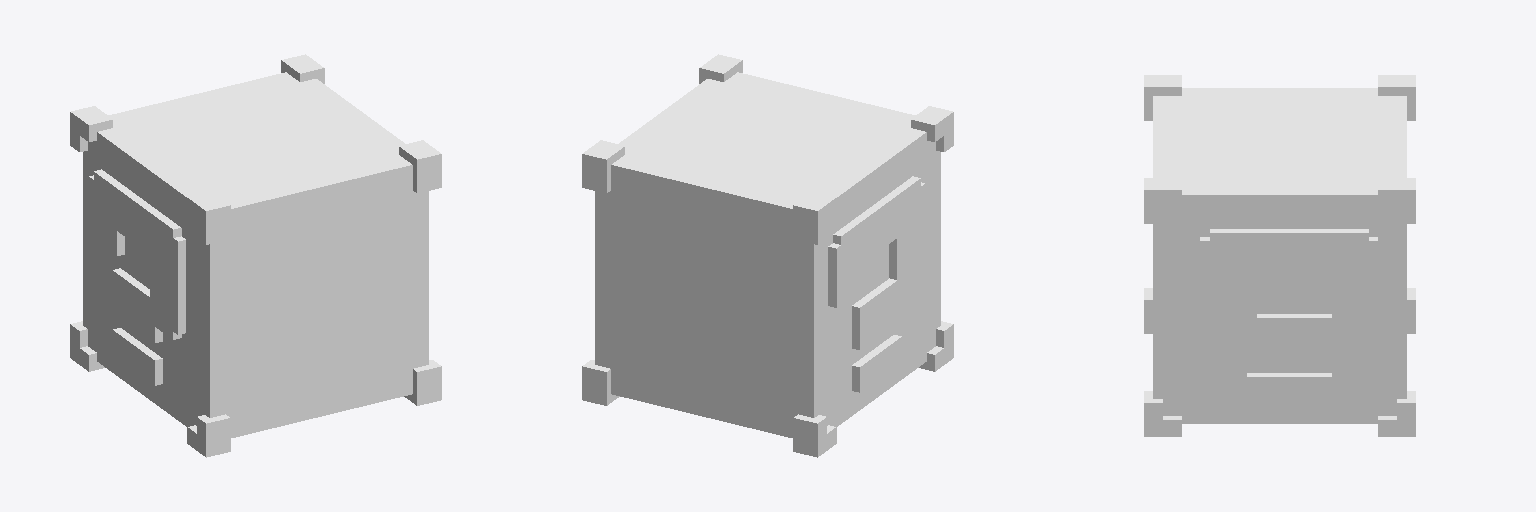
The model's file is BoxMystery.obj.
3 views of the same model, side by side, from view 1: azimuth 30°, elevation 25°; view 2: azimuth 150°, elevation 25°; view 3: azimuth 270°, elevation 25° (orthographic).
Size of the model in its own units: 29 by 29 by 29.